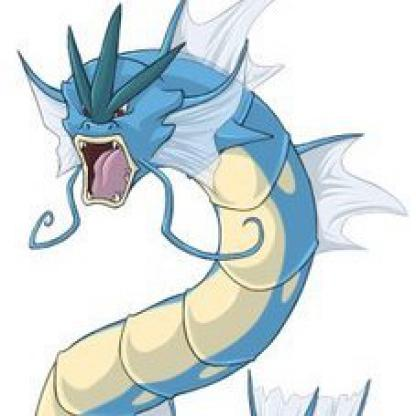Gyarados: (1, 1, 395, 415)
